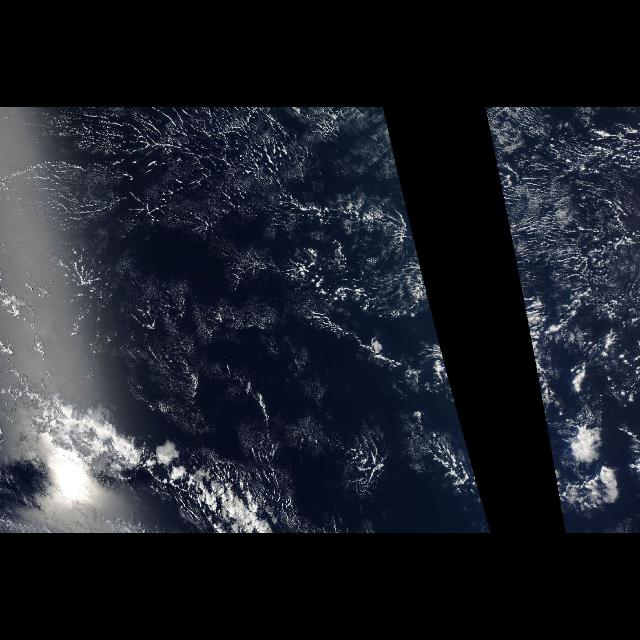Gravel: (7, 172, 426, 400), (504, 115, 634, 392)
Sugar: (8, 110, 430, 298), (486, 110, 634, 298)
